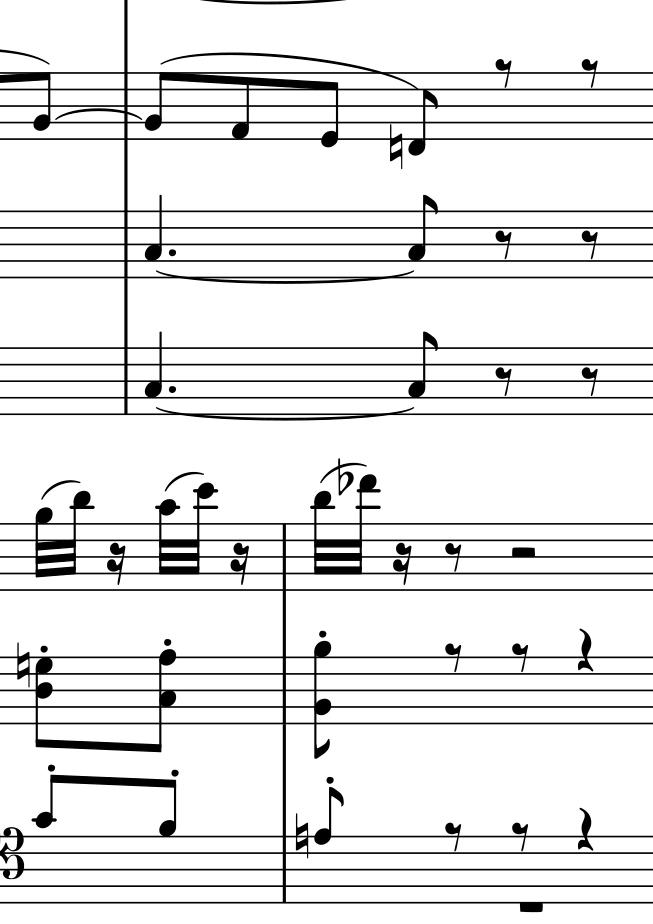32_10: (154, 498, 182, 591)
32_11: (61, 490, 90, 592), (311, 491, 336, 592)
32_12: (185, 483, 217, 592)
32_13: (350, 475, 381, 594)
32_9: (33, 505, 54, 592)
4_3: (142, 193, 165, 282)
4_4: (143, 329, 165, 416)
8_-1: (407, 70, 438, 159)
8_0: (319, 71, 340, 150)
8_1: (229, 71, 254, 144)
8_10: (32, 773, 65, 907)
8_2: (142, 71, 170, 140), (33, 68, 54, 144)
8_3: (406, 330, 440, 417), (408, 193, 440, 279)
8_8: (313, 785, 347, 908)
8_9: (157, 776, 180, 905)
Flat: (337, 456, 353, 496)
Natural: (15, 643, 34, 692), (292, 812, 311, 859), (388, 122, 405, 170)
Rests1: (515, 895, 545, 915)
Rests16: (227, 541, 251, 587), (392, 543, 415, 587), (105, 542, 127, 586)
Rests2: (503, 544, 543, 563)
Rests4: (575, 625, 594, 672), (576, 805, 594, 852)
Rests8: (441, 818, 465, 856), (578, 56, 602, 92), (442, 540, 466, 576), (577, 228, 601, 262), (510, 815, 532, 852), (491, 56, 515, 86), (444, 640, 463, 676), (580, 366, 600, 400), (493, 364, 514, 394), (494, 229, 513, 261), (511, 643, 530, 675)
Single_barline: (118, 72, 137, 142), (118, 347, 136, 413), (276, 835, 293, 903), (275, 658, 293, 722), (118, 211, 135, 277), (275, 524, 292, 590)
Slur: (160, 52, 421, 90), (154, 404, 417, 423), (155, 267, 414, 285), (320, 461, 368, 482), (40, 480, 79, 501), (165, 471, 202, 493)
dot: (166, 381, 180, 399), (165, 245, 180, 261)
